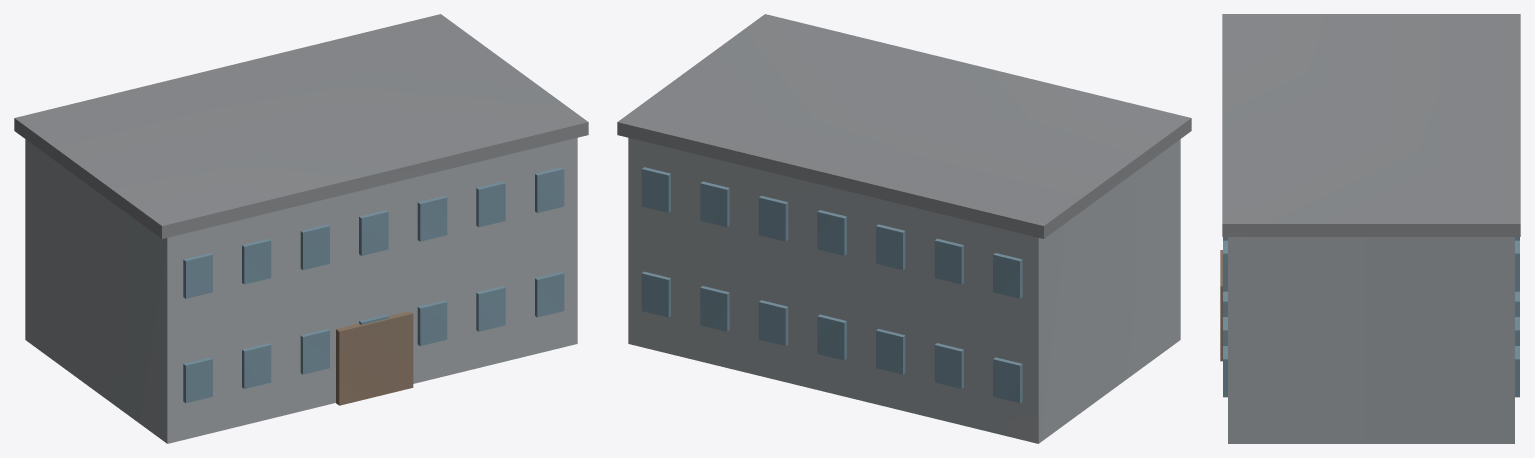
File: warehouse-00.glb
3 views of the same model, side by side, from view 1: azimuth 30°, elevation 25°; view 2: azimuth 150°, elevation 25°; view 3: azimuth 270°, elevation 25° (orthographic).
Parts seen in each view (by area): view 1: world; view 2: world; view 3: world.
Boxes of the visible parts, x1,y1,x2,y2 form: world: (14,14,588,443); world: (617,14,1191,443); world: (1220,14,1520,443).
Bounding box in the file's own units: 2.41 × 1.2 × 1.46.
